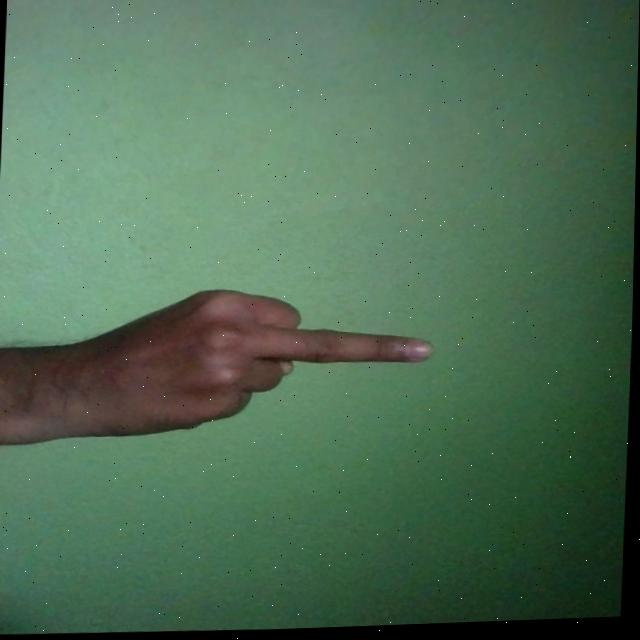Middle Finger: (16, 280, 434, 446)
